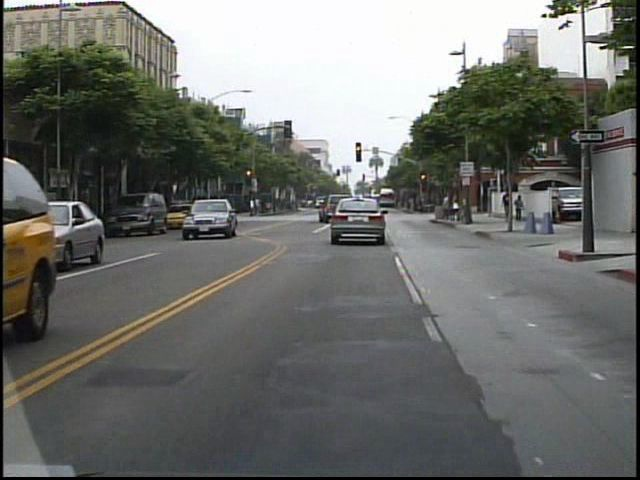person: (438, 189, 457, 221), (501, 187, 516, 226), (514, 191, 526, 225), (250, 194, 259, 219)
